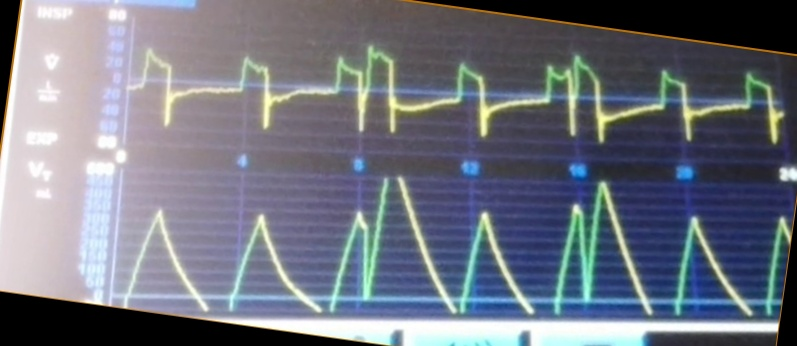Double_Triggering Flow: (146, 43, 719, 150)
Double_Triggering Volume: (140, 177, 751, 316)
